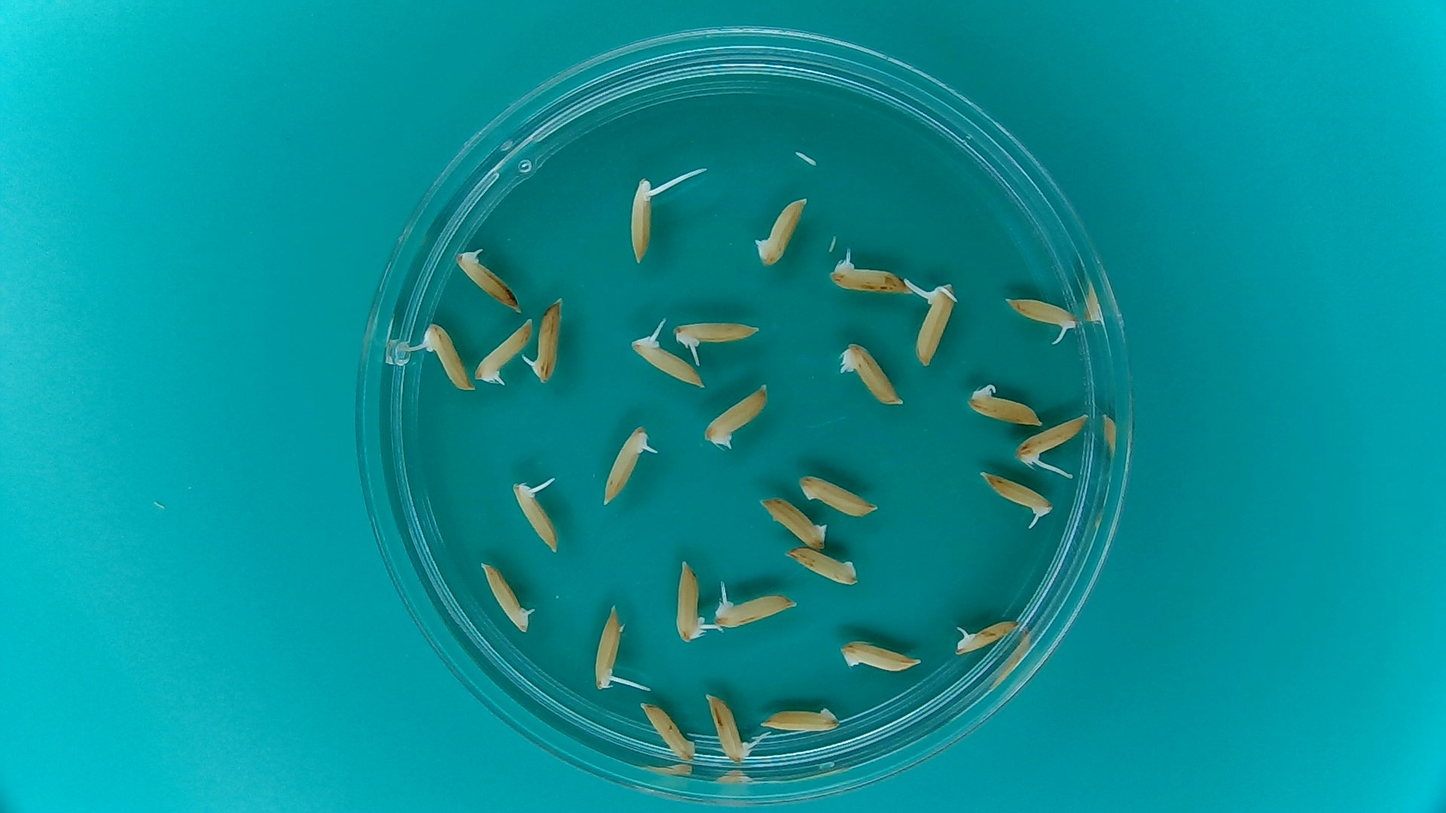no: (750, 190, 811, 270), (753, 494, 831, 551), (798, 470, 883, 516), (638, 698, 697, 764), (835, 636, 924, 674), (781, 545, 861, 587), (758, 701, 843, 735)
yes: (836, 336, 908, 410), (700, 379, 774, 449), (975, 469, 1056, 531), (596, 426, 654, 510), (627, 332, 709, 391), (477, 557, 538, 636), (474, 314, 538, 387), (452, 249, 523, 314), (962, 379, 1047, 428), (915, 279, 961, 369), (704, 689, 759, 764), (712, 583, 801, 629), (1017, 411, 1091, 466), (523, 293, 566, 387), (824, 251, 911, 297), (423, 318, 474, 392), (511, 482, 561, 555), (670, 314, 760, 353), (673, 556, 712, 646), (590, 594, 624, 694), (951, 614, 1021, 656), (627, 177, 659, 268), (1009, 295, 1081, 334)
